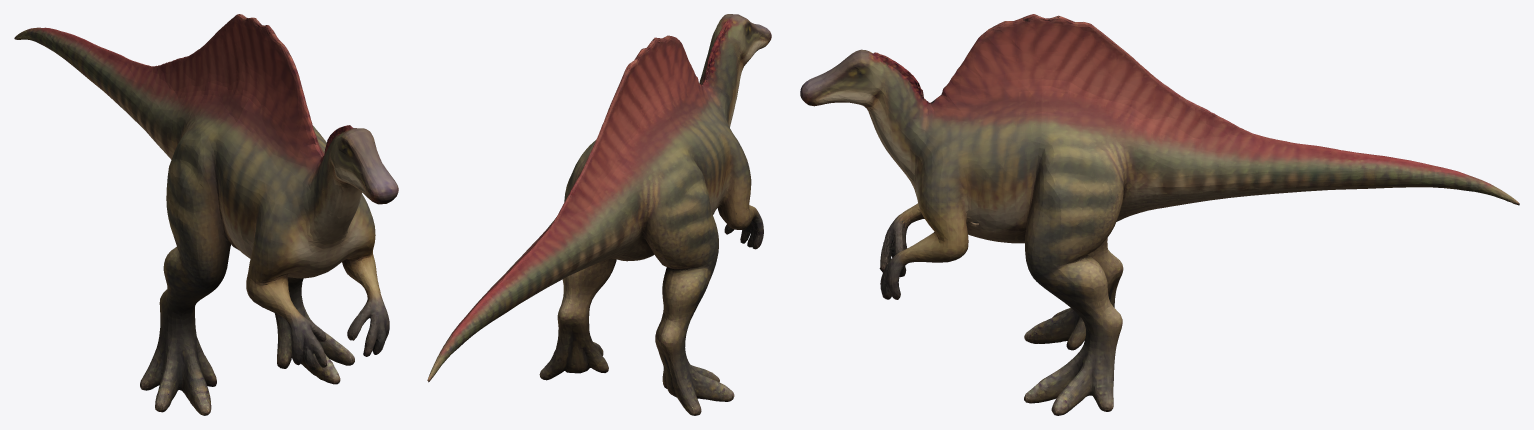
The picture shows the model from 3 angles, left to right: view 1: azimuth 30°, elevation 25°; view 2: azimuth 150°, elevation 25°; view 3: azimuth 270°, elevation 25°; orthographic projection. The views are drawn at different scales.
Parts seen in each view (by area): view 1: world; view 2: world; view 3: world.
Part boxes in pixels (x1=…): world: x1=14, y1=14, x2=398, y2=415; world: x1=427, y1=14, x2=771, y2=415; world: x1=800, y1=14, x2=1519, y2=415.
Bounding box in the file's own units: 0.3073 × 0.5499 × 0.999.
Materials: 1 (1 with a texture image).
